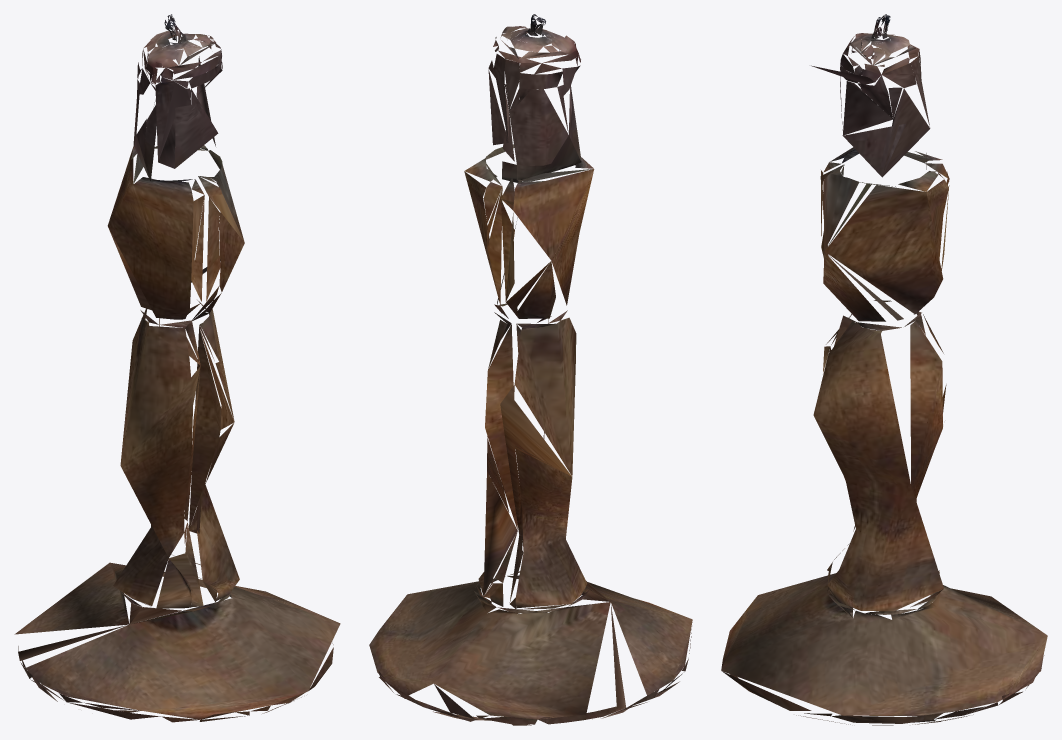
File: wooden_candlestick.glb
3 renders of one model, left to right at view 1: azimuth 30°, elevation 25°; view 2: azimuth 150°, elevation 25°; view 3: azimuth 270°, elevation 25°, orthographic.
Parts seen in each view (by area): view 1: wooden_candlestick; view 2: wooden_candlestick; view 3: wooden_candlestick.
Boxes of the visible parts, <box> form: wooden_candlestick: <box>14,14,340,722</box>; wooden_candlestick: <box>369,14,692,725</box>; wooden_candlestick: <box>721,14,1047,725</box>.
Bounding box in the file's own units: 0.1003 × 0.2198 × 0.1008.
Materials: 1 (1 with a texture image).
